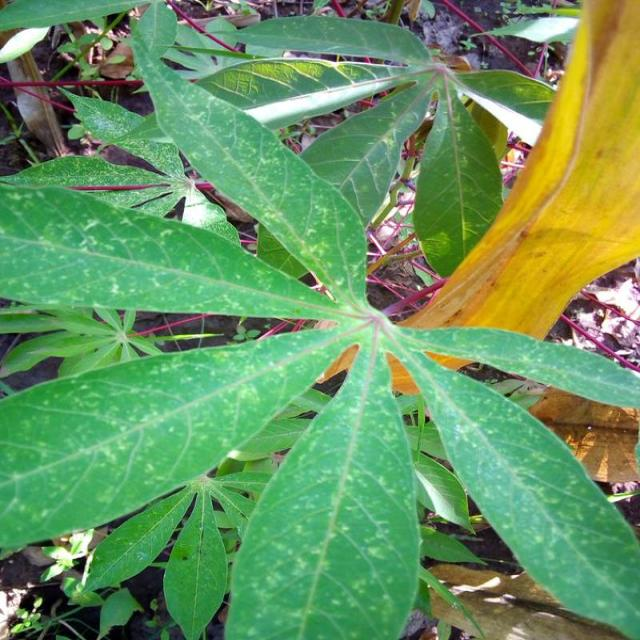cassava leaf: (1, 1, 638, 638), (0, 324, 354, 558), (388, 331, 638, 638), (223, 324, 421, 638), (0, 178, 342, 320)
